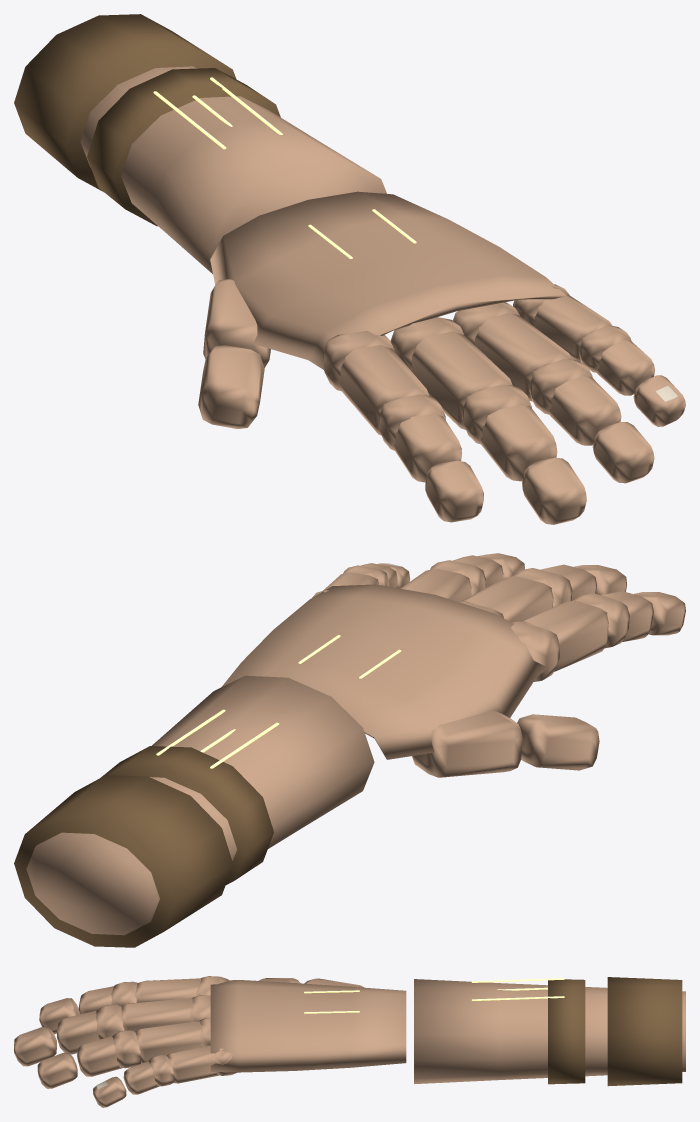
File: mano-der.glb
3 views of the same model, one above another, from view 1: azimuth 30°, elevation 25°; view 2: azimuth 150°, elevation 25°; view 3: azimuth 270°, elevation 25° (orthographic). The views are drawn at different scales.
Visible parts, largest first — view 1: Palma, Antebrazo, Banda_1, Banda_2, MedioF1, PulgarF2, IndiceF1, AnularF1, MedioF2, AnularF2, MedioF3, IndiceF2 (+13 smaller); view 2: Palma, Antebrazo, Banda_1, Banda_2, PulgarF1, PulgarF2, IndiceF1, MedioF1, IndiceN1, AnularF1, IndiceF3, IndiceN2 (+6 smaller); view 3: Palma, Antebrazo, Banda_1, Banda_2, AnularF1, MedioF1, MeniqueF1, MedioF3, MedioF2, IndiceF1, AnularF2, AnularF3 (+15 smaller).
Boxes of the visible parts, x1,y1,x2,y2 form: Palma: (210,191,566,370); Antebrazo: (80,66,386,273); Banda_1: (14,14,236,191); Banda_2: (87,68,280,226); MedioF1: (411,331,512,429); PulgarF2: (198,345,264,428); IndiceF1: (339,345,429,435); AnularF1: (475,313,571,401); MedioF2: (480,405,557,481); AnularF2: (549,376,621,445); MedioF3: (522,457,586,524); IndiceF2: (393,414,461,482); Palma: (222,584,548,759); Antebrazo: (26,675,374,935); Banda_1: (14,775,233,947); Banda_2: (101,746,273,884); PulgarF1: (412,711,522,777); PulgarF2: (517,714,599,770); IndiceF1: (520,600,608,671); MedioF1: (460,576,553,622); IndiceN1: (511,621,559,681); AnularF1: (400,568,471,601); IndiceF3: (634,592,685,635); IndiceN2: (572,593,629,648); Palma: (210,980,406,1072); Antebrazo: (414,979,685,1084); Banda_1: (607,977,682,1086); Banda_2: (548,979,585,1084); AnularF1: (135,1021,201,1063); MedioF1: (121,998,192,1030); MeniqueF1: (166,1045,218,1083); MedioF3: (14,1026,56,1066); MedioF2: (57,1011,99,1054); IndiceF1: (135,978,201,1002); AnularF2: (77,1036,122,1076); AnularF3: (37,1052,77,1088).
Bounding box in the file's own units: 0.1455 × 0.055 × 0.3606.
